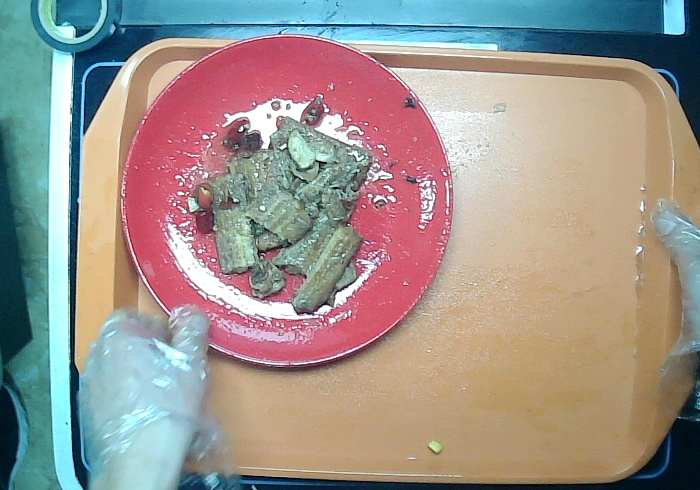HZYJPL-Hong_Se_Yuan_Pan: (119, 32, 452, 371)
